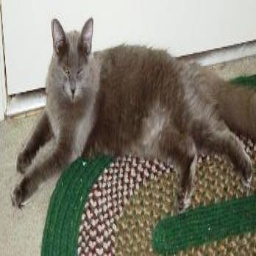cat: (14, 20, 256, 216)
